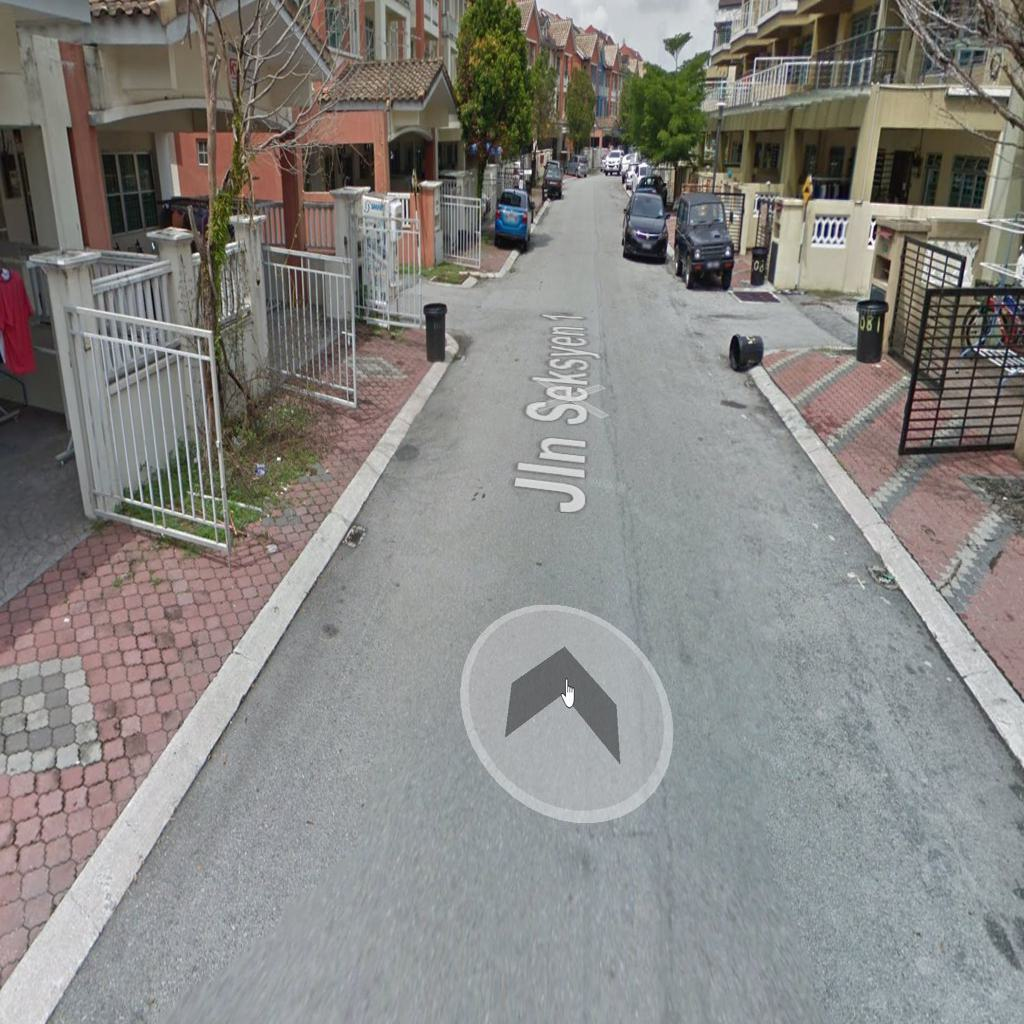Junction: (691, 268, 875, 387), (373, 243, 507, 356)
